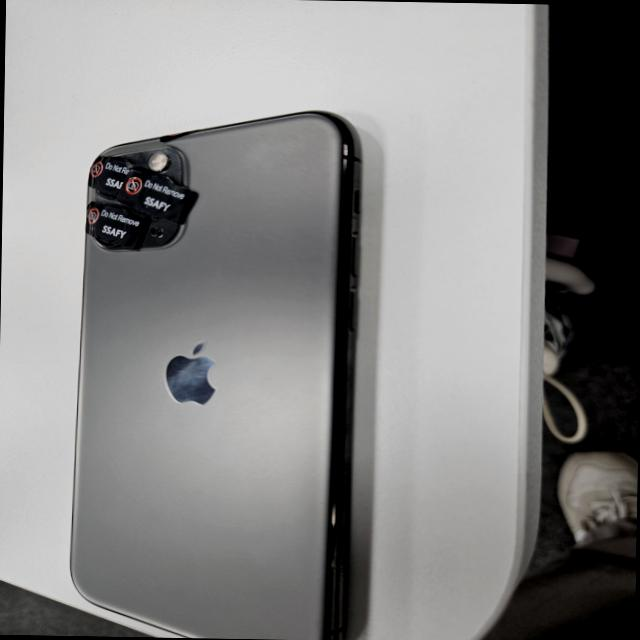phone: (68, 105, 363, 640)
sticker: (116, 168, 192, 222), (84, 200, 147, 249), (91, 157, 126, 199)
